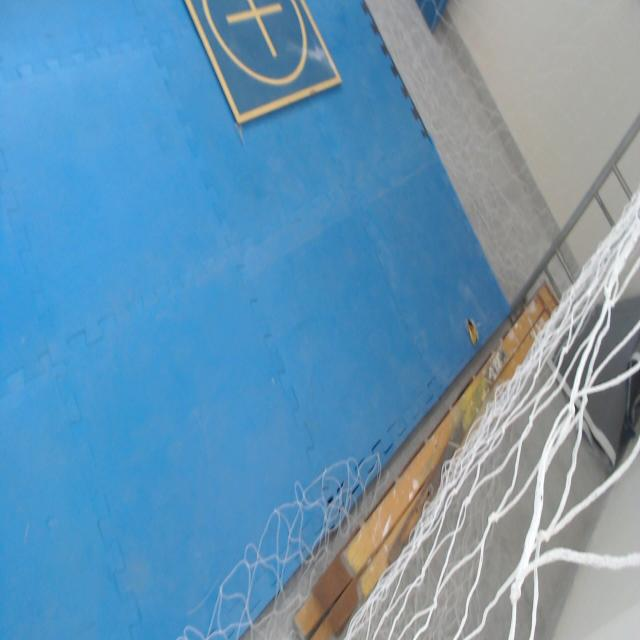base_pouso: (183, 0, 346, 130)
